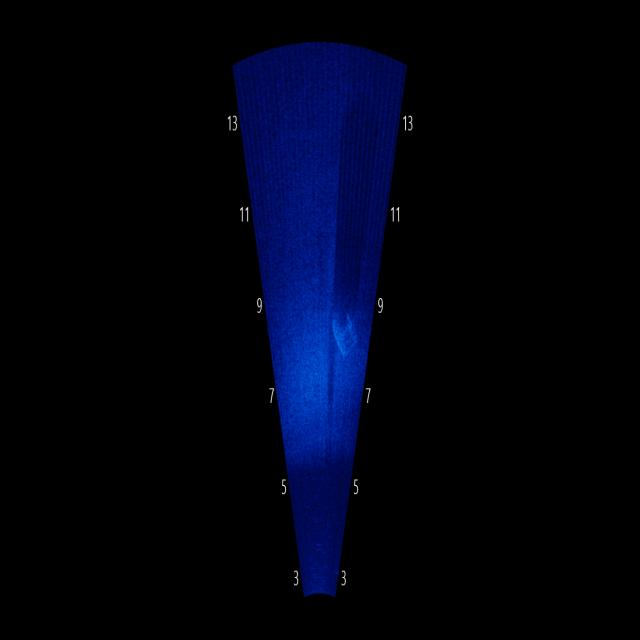square: (321, 284, 361, 378)
